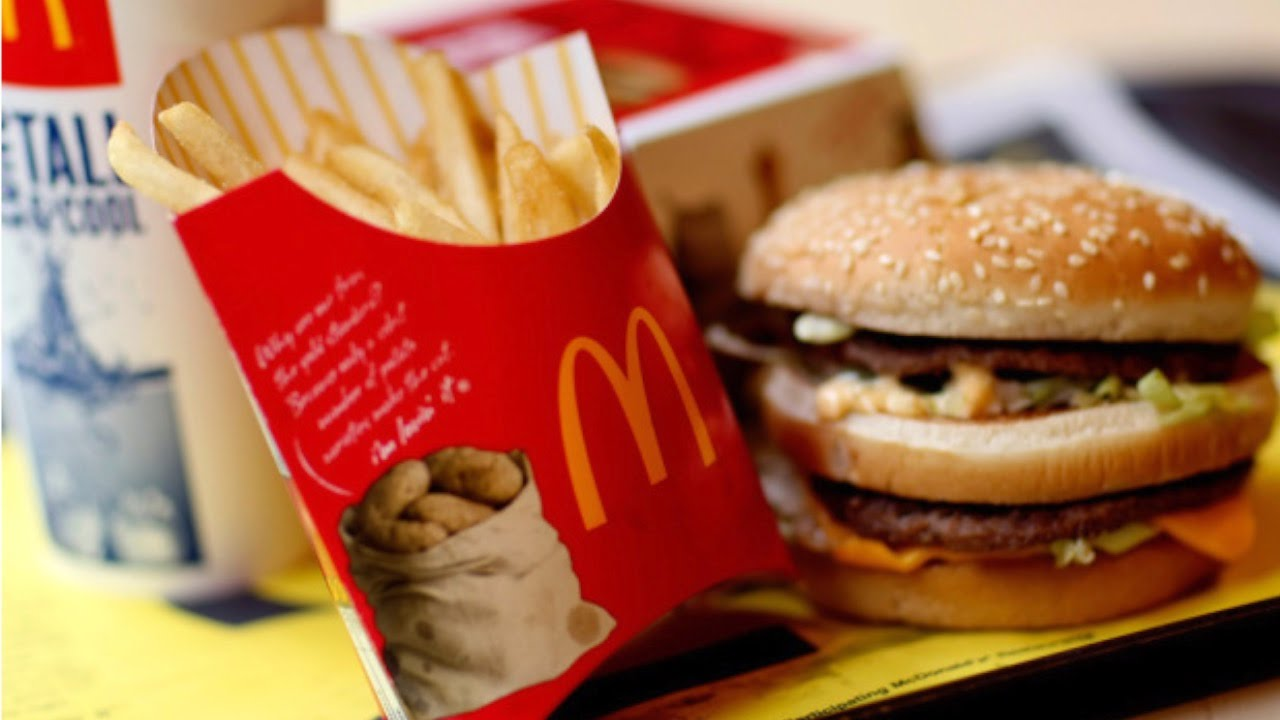mcdonalds: (554, 291, 711, 531), (582, 291, 711, 536)
